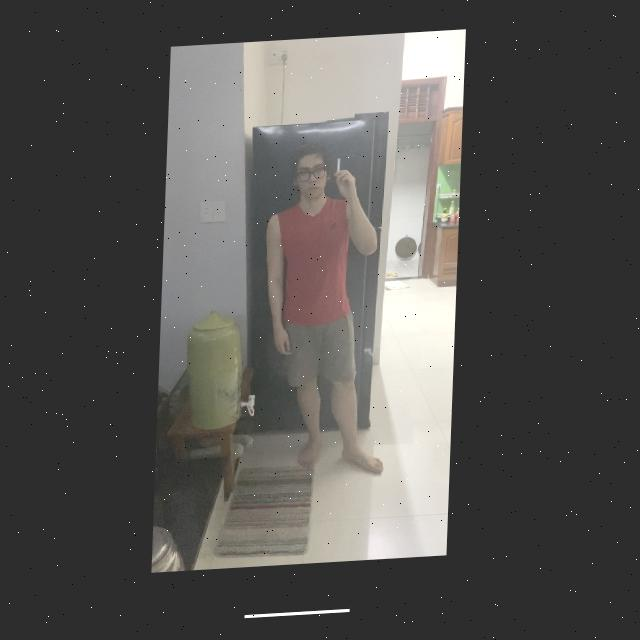cigarette: (338, 162, 341, 176)
